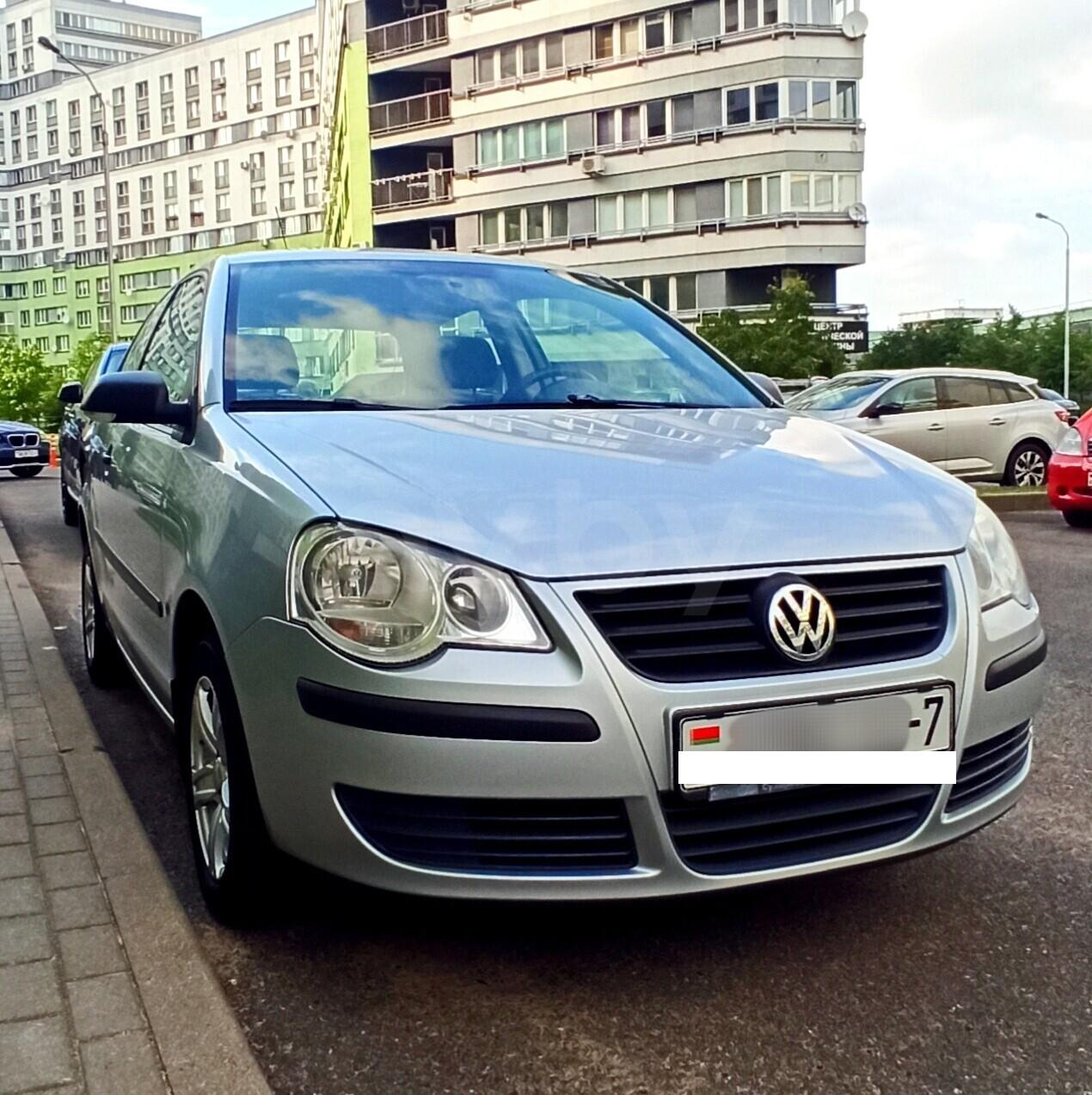Polo_2005-2009: (64, 243, 1057, 964)
